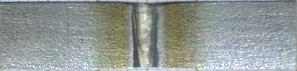soldas: (101, 5, 199, 70)
